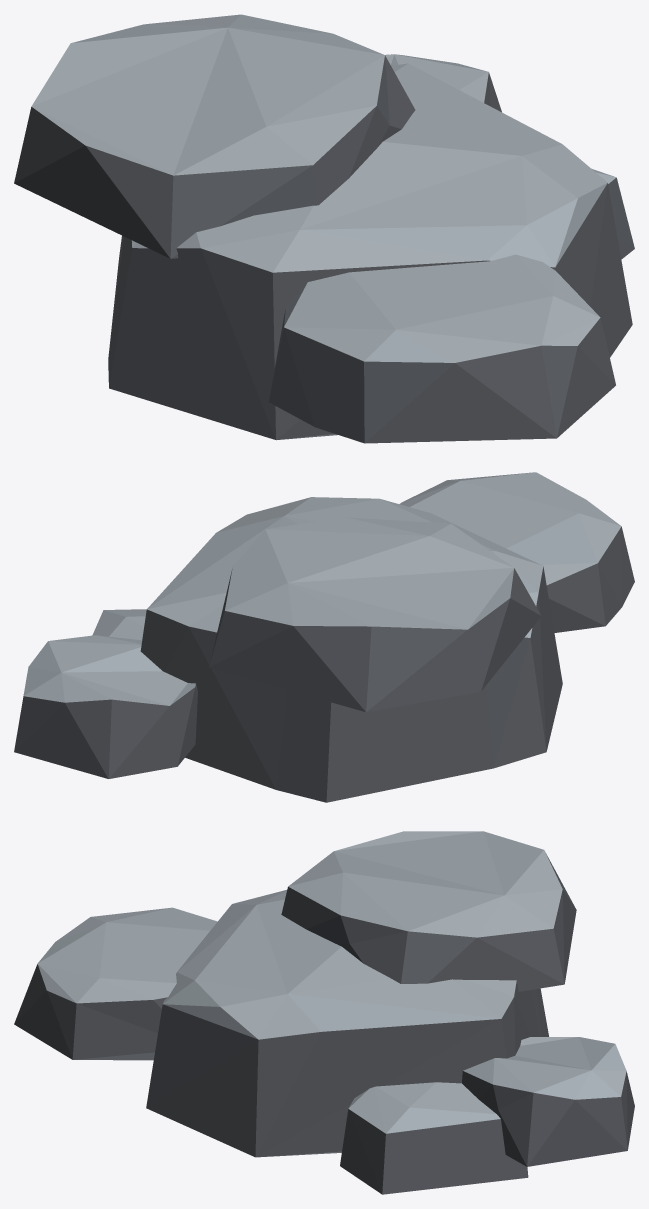
The picture shows the model from 3 angles, top to bottom: view 1: azimuth 30°, elevation 25°; view 2: azimuth 150°, elevation 25°; view 3: azimuth 270°, elevation 25°; orthographic projection. The views are drawn at different scales.
Parts seen in each view (by area): view 1: SK_06; view 2: SK_06; view 3: SK_06.
Boxes of the visible parts, x1,y1,x2,y2 form: SK_06: (14,14,634,443); SK_06: (14,472,634,802); SK_06: (14,831,634,1194).
Size of the model in its own units: 5.62 by 2.39 by 7.3.
